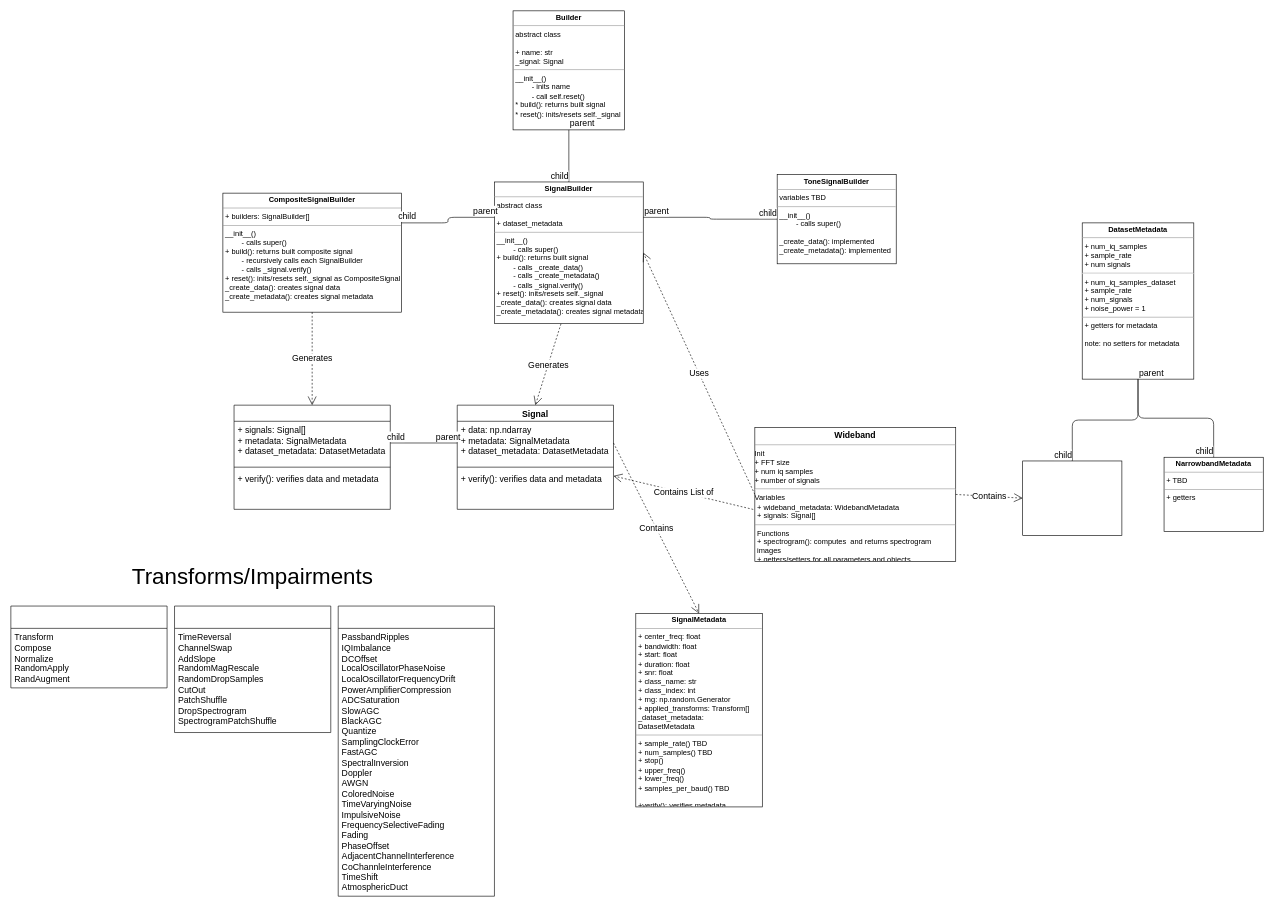
Some shapes in this 1274 by 909 pixel diagram are drawn without their labels. The box of each missing label's shape, as (x1, y1, x2, y2) in pixels:
CompositeSignal: (233, 405, 390, 509)
transforms/base_transforms.py: (10, 605, 167, 688)
transforms/ml_transforms.py: (174, 605, 331, 733)
transforms/signal_impairments.py: (338, 605, 494, 896)
WidebandMetadata fft size + fft_size + getters: (1022, 460, 1122, 535)
